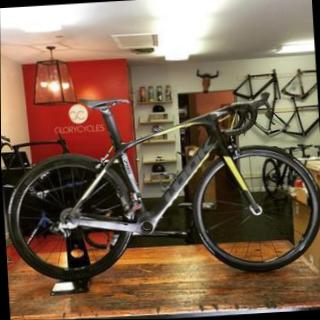Bike: (1, 68, 320, 299)
